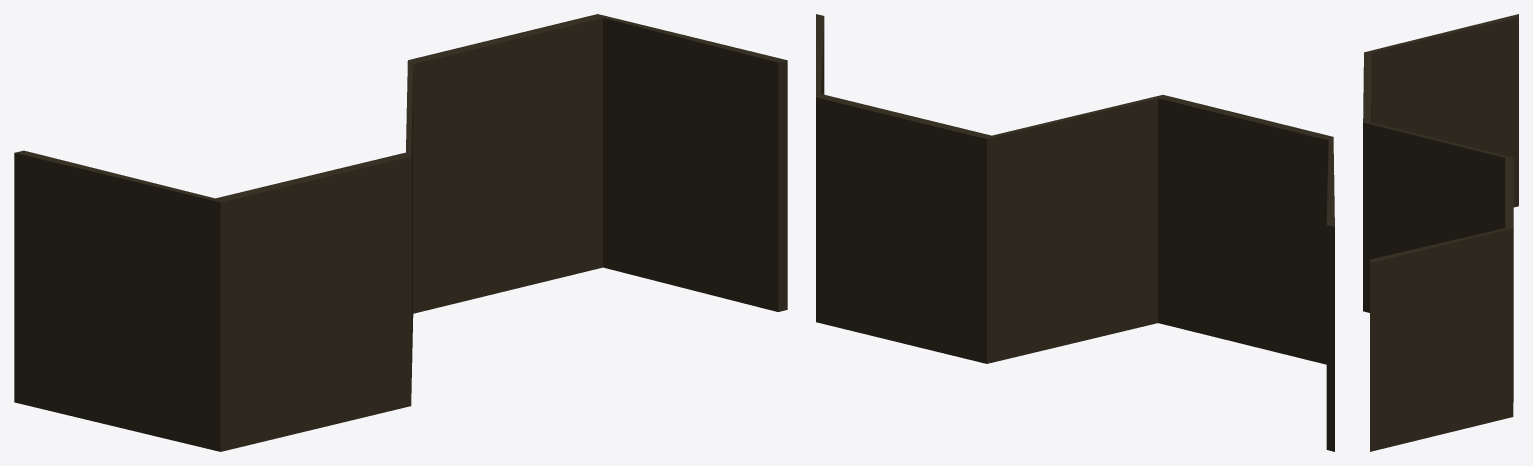
Rendered from Stage1Walls5.fbx.
The picture shows the model from 3 angles, left to right: view 1: azimuth 30°, elevation 25°; view 2: azimuth 150°, elevation 25°; view 3: azimuth 270°, elevation 25°; orthographic projection. The views are drawn at different scales.
Visible parts, largest first — view 1: Walls5; view 2: Walls5; view 3: Walls5.
Part boxes in pixels (x1=…): Walls5: x1=14, y1=14, x2=787, y2=451; Walls5: x1=816, y1=14, x2=1334, y2=451; Walls5: x1=1363, y1=14, x2=1518, y2=451.
Bounding box in the file's own units: 32.08 × 11.34 × 8.48.
